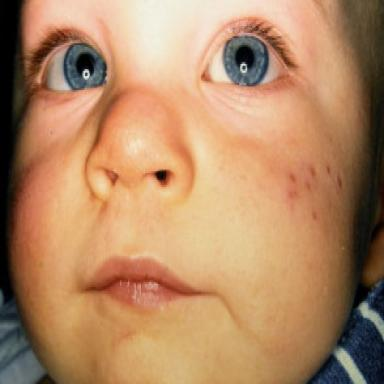acne: (287, 190, 298, 197), (308, 166, 315, 175), (306, 179, 311, 190), (337, 177, 342, 188), (326, 166, 331, 175), (312, 211, 317, 220), (289, 174, 295, 181)
